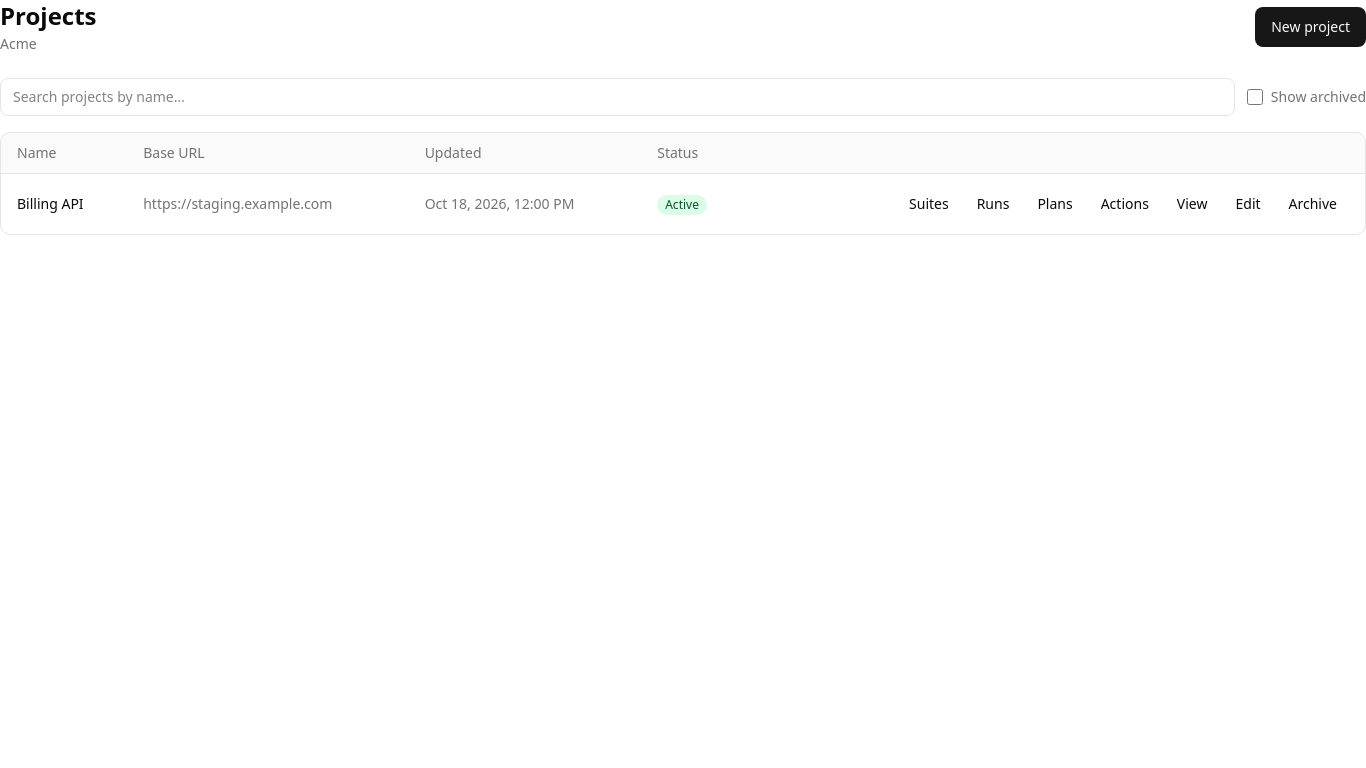
Test: ProjectsManager › opens the detail view for a project
Expected: the text "Billing API" is shown, [1,174,127,234]
Click the button "View" at (1192, 204), box [1165,186,1219,222]
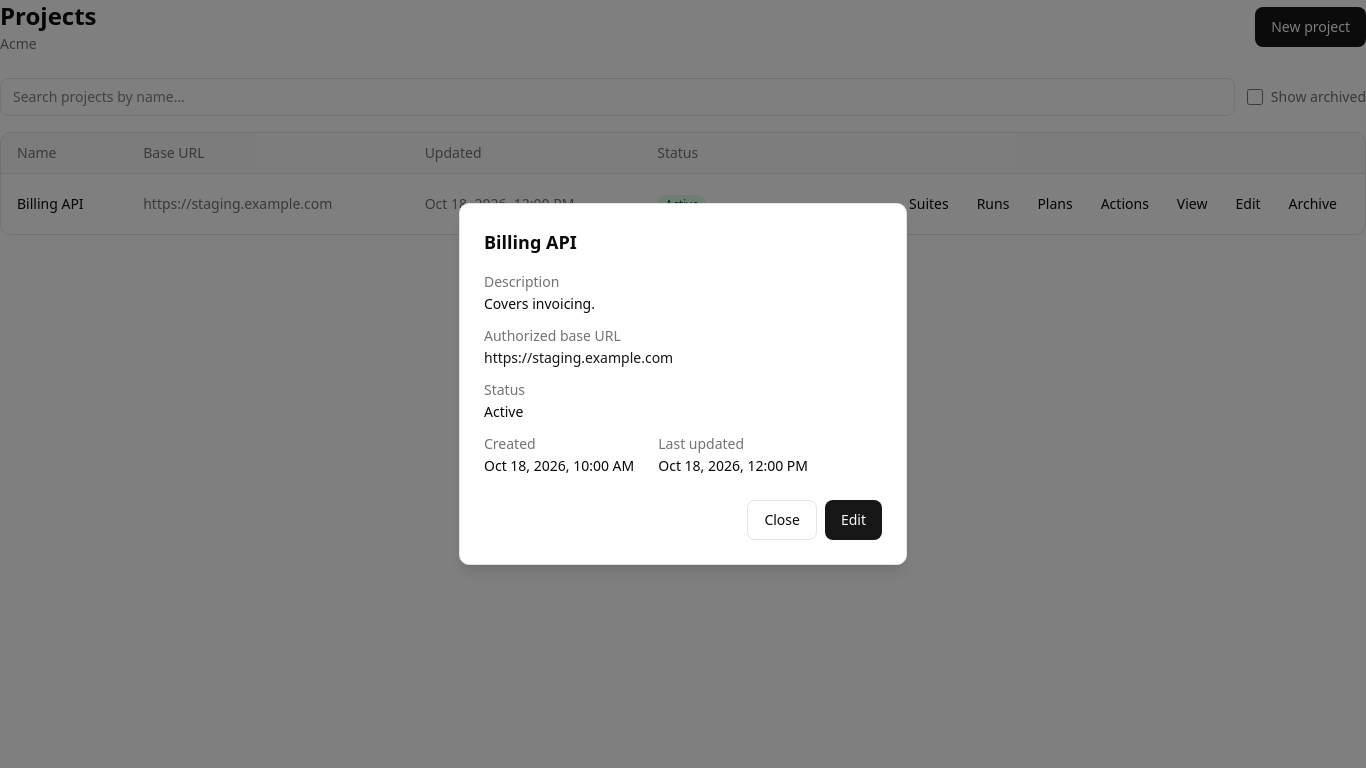
Expected: the dialog shows "Covers invoicing.", [484,294,595,313]
Expected: the dialog shows "https://staging.example.com", [484,348,673,367]
